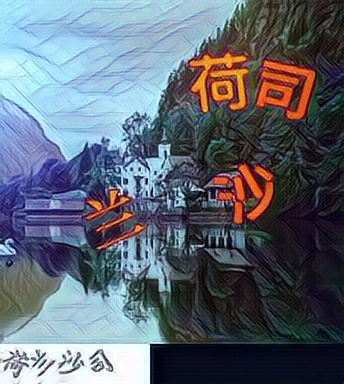BAC9: (189, 49, 250, 114)
C0BC: (83, 186, 144, 251)
C9B3: (214, 157, 275, 222)
CBBE: (256, 57, 317, 122)
